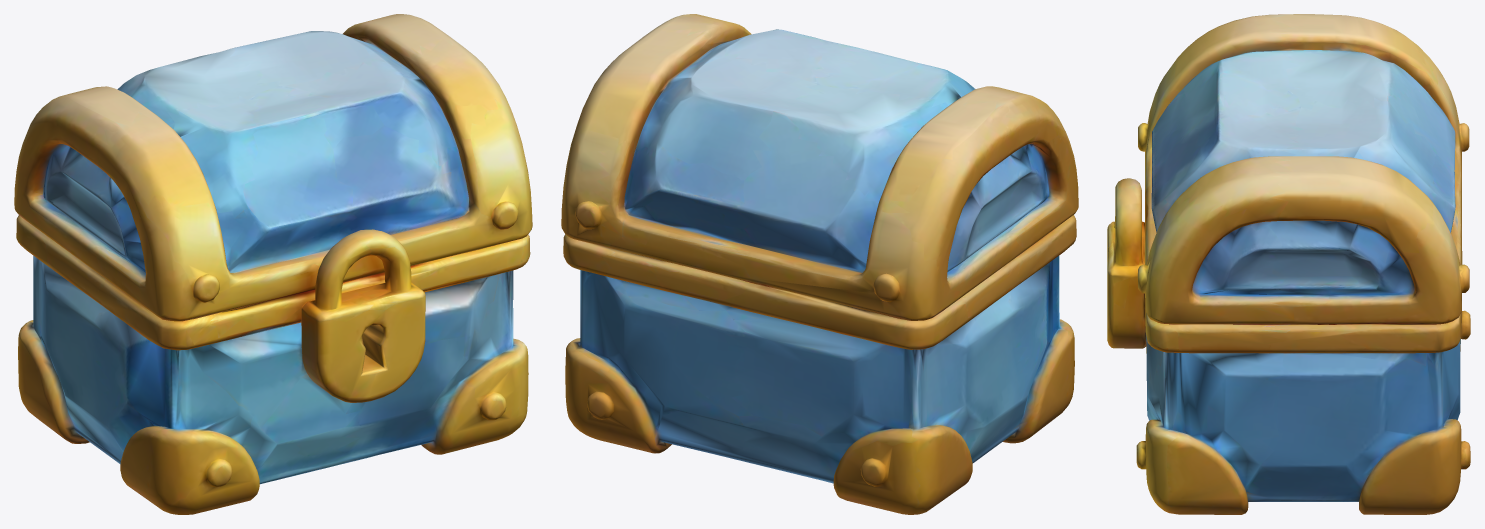
Rendered from box-diamond.glb.
The picture shows the model from 3 angles, left to right: view 1: azimuth 30°, elevation 25°; view 2: azimuth 150°, elevation 25°; view 3: azimuth 270°, elevation 25°; orthographic projection. The views are drawn at different scales.
Visible parts, largest first — view 1: tripo_node_5ac52e2e-b612-4d14-ac18-93cff44559cd; view 2: tripo_node_5ac52e2e-b612-4d14-ac18-93cff44559cd; view 3: tripo_node_5ac52e2e-b612-4d14-ac18-93cff44559cd.
Boxes of the visible parts, x1,y1,x2,y2 form: tripo_node_5ac52e2e-b612-4d14-ac18-93cff44559cd: [14, 14, 532, 514]; tripo_node_5ac52e2e-b612-4d14-ac18-93cff44559cd: [561, 14, 1078, 514]; tripo_node_5ac52e2e-b612-4d14-ac18-93cff44559cd: [1107, 14, 1470, 514].
Size of the model in its own units: 0.9996 by 0.904 by 0.8627.
Materials: 1 (1 with a texture image).
